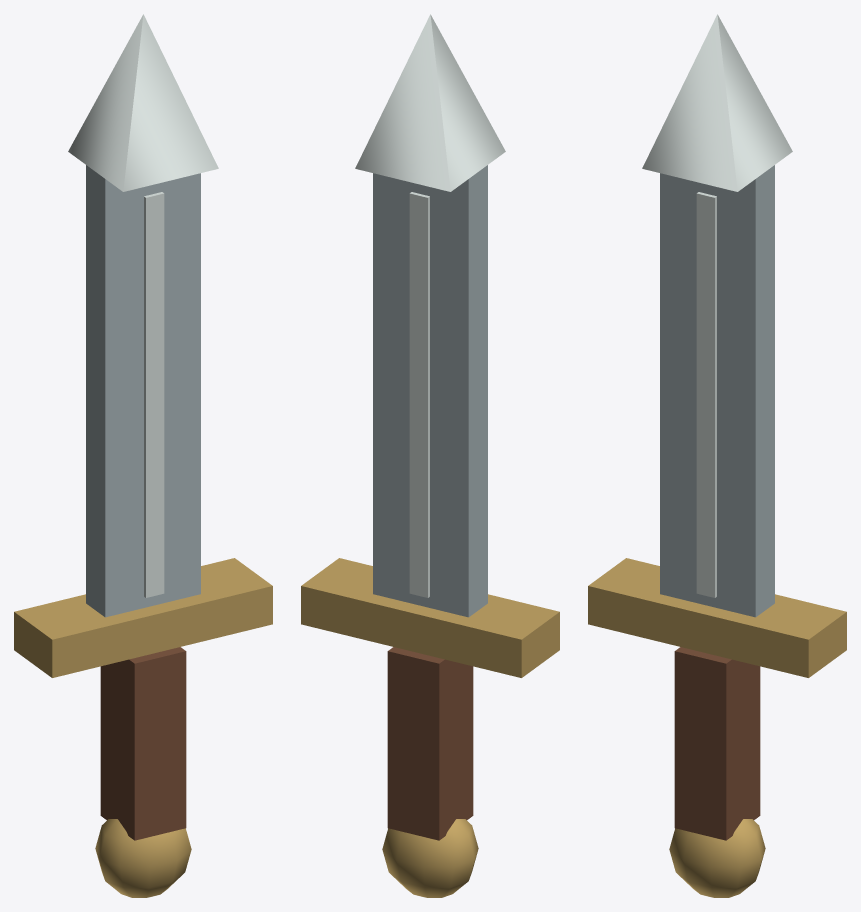
The model's file is fixed-sword.glb.
The picture shows the model from 3 angles, left to right: view 1: azimuth 30°, elevation 25°; view 2: azimuth 150°, elevation 25°; view 3: azimuth 330°, elevation 25°; orthographic projection.
Parts seen in each view (by area): view 1: piece_whole; view 2: piece_whole; view 3: piece_whole.
Part boxes in pixels (bbox=[...]): piece_whole: bbox=[14, 14, 272, 897]; piece_whole: bbox=[301, 14, 559, 897]; piece_whole: bbox=[588, 14, 846, 897].
Bounding box in the file's own units: 0.3 × 1.14 × 0.1301.
